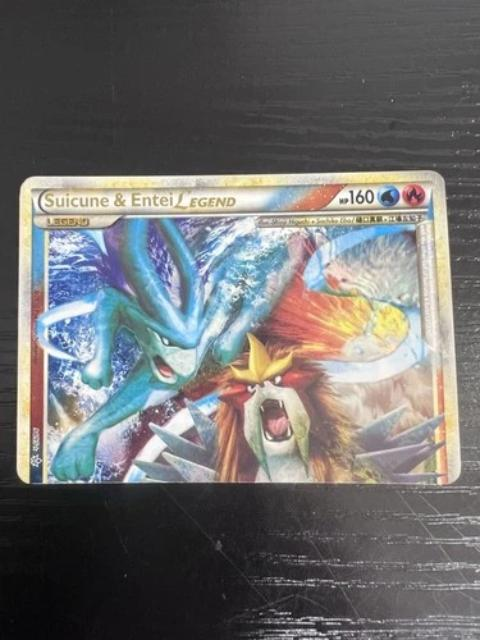Card: (13, 165, 467, 490)
Name: (36, 188, 242, 214)
